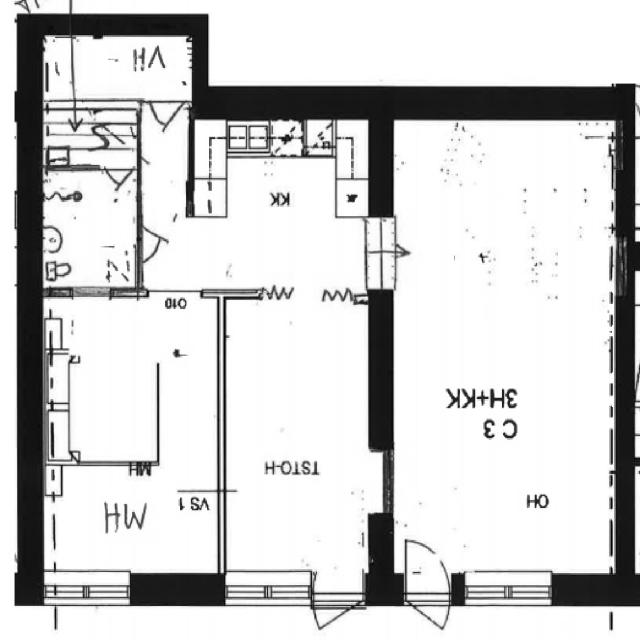door: (397, 537, 453, 636), (307, 588, 365, 632), (270, 135, 302, 161)
window: (456, 566, 564, 613), (220, 574, 316, 608), (52, 576, 136, 606), (370, 442, 400, 522), (606, 229, 631, 304), (64, 284, 118, 308)
zone: (217, 298, 381, 569), (46, 295, 158, 468), (50, 462, 186, 582), (37, 158, 143, 296), (70, 30, 195, 104), (40, 99, 143, 174), (225, 118, 272, 159), (268, 118, 304, 158), (303, 118, 336, 158)
